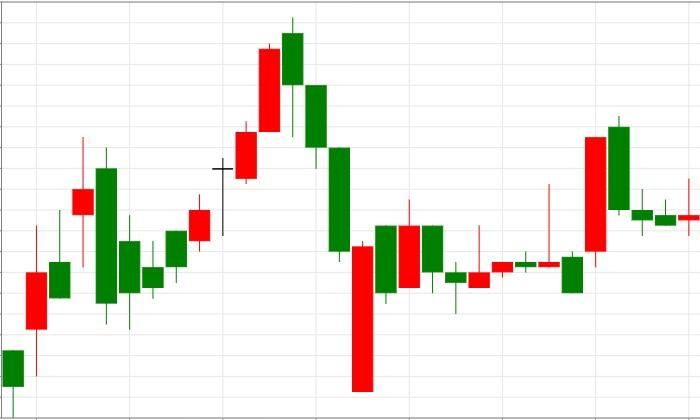three_black_crows_fall: (188, 17, 351, 262)
